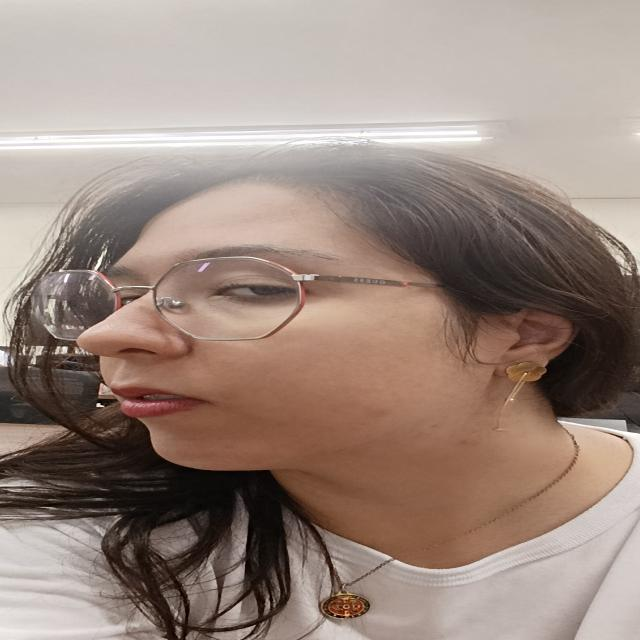sem_oculos: (34, 257, 444, 341)
